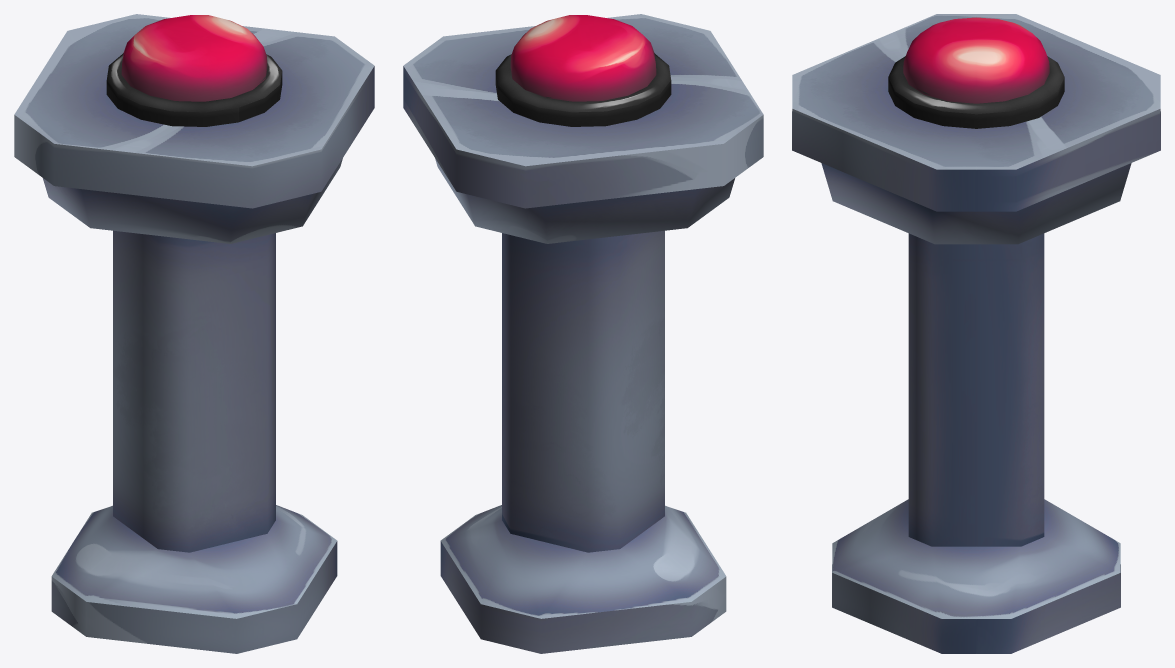
Rendered from SM_PRP_Button.fbx.
The picture shows the model from 3 angles, left to right: view 1: azimuth 30°, elevation 25°; view 2: azimuth 150°, elevation 25°; view 3: azimuth 270°, elevation 25°; orthographic projection.
Parts seen in each view (by area): view 1: m_buttonBase, m_button; view 2: m_buttonBase, m_button; view 3: m_buttonBase, m_button.
Boxes of the visible parts, left/top/right/bottom form: m_buttonBase: left=14, top=14, right=374, bottom=653; m_button: left=106, top=15, right=282, bottom=126; m_buttonBase: left=403, top=14, right=763, bottom=653; m_button: left=495, top=15, right=671, bottom=126; m_buttonBase: left=792, top=14, right=1160, bottom=653; m_button: left=888, top=17, right=1064, bottom=128.
Size of the model in its own units: 52.92 by 88.56 by 52.92.
Materials: 2 (2 with a texture image).
